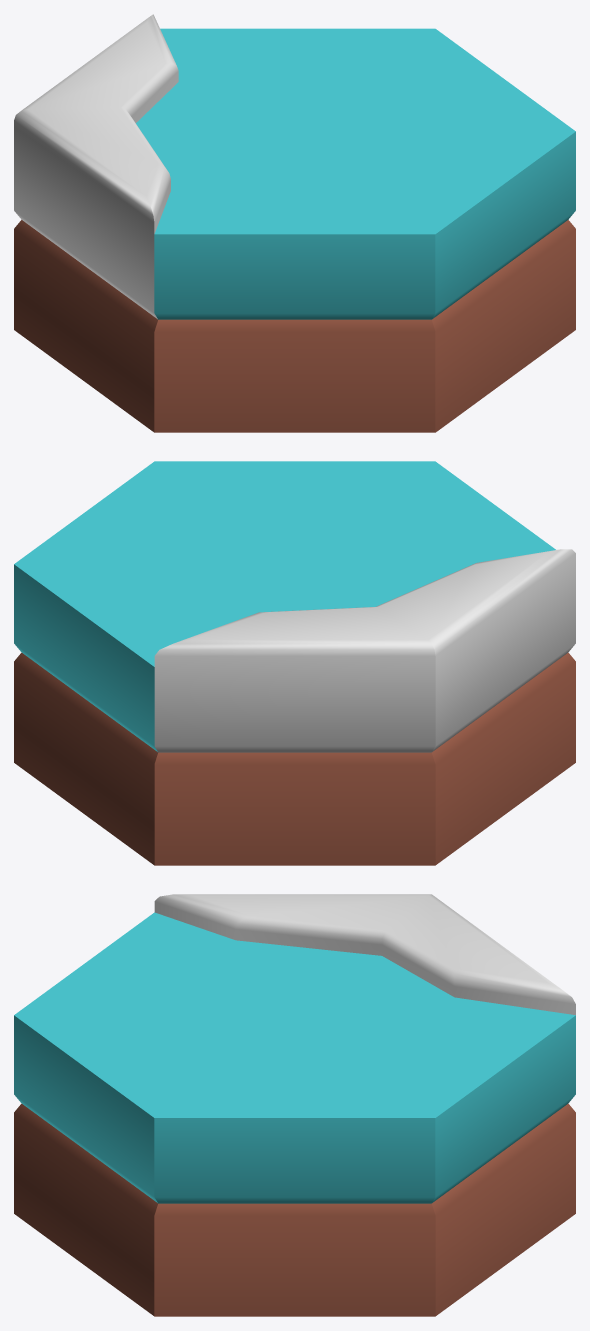
Rendered from hex_snow_waterA_detail.gltf.glb.
The picture shows the model from 3 angles, top to bottom: view 1: azimuth 30°, elevation 25°; view 2: azimuth 150°, elevation 25°; view 3: azimuth 270°, elevation 25°; orthographic projection.
Parts seen in each view (by area): view 1: hex_snow_waterA_detail; view 2: hex_snow_waterA_detail; view 3: hex_snow_waterA_detail.
Part boxes in pixels (x1=…): hex_snow_waterA_detail: x1=14, y1=14, x2=575, y2=432; hex_snow_waterA_detail: x1=14, y1=461, x2=575, y2=865; hex_snow_waterA_detail: x1=14, y1=894, x2=575, y2=1316.
Bounding box in the file's own units: 2 × 1 × 2.31.
